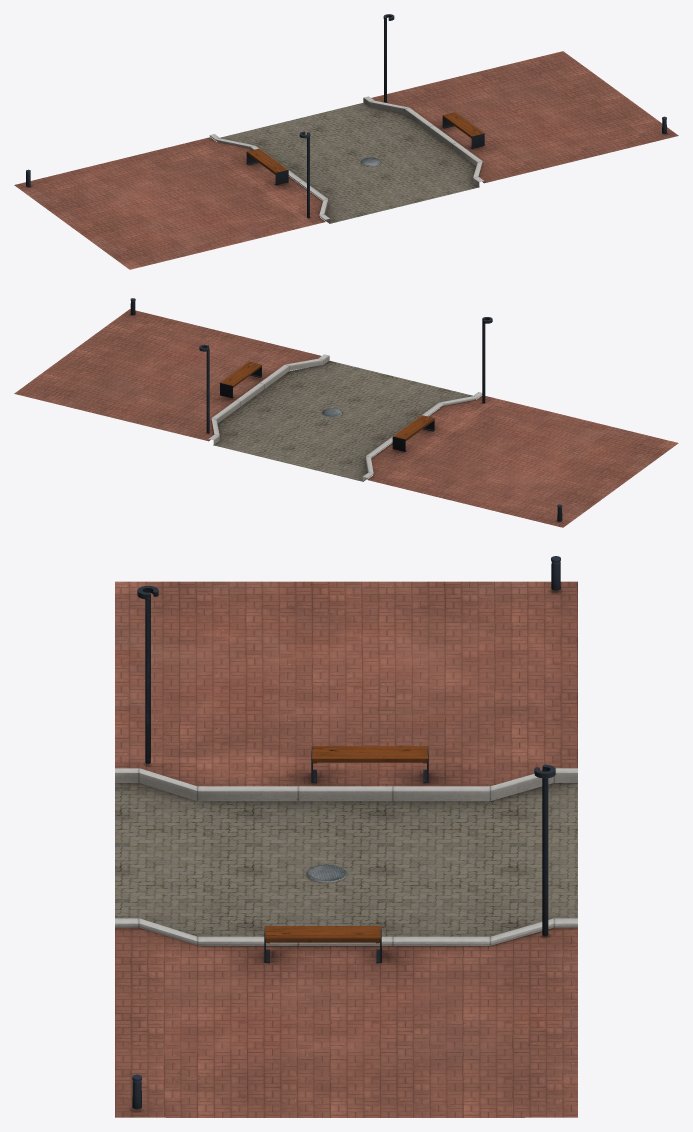
File: street_3.glb
3 views of the same model, one above another, from view 1: azimuth 30°, elevation 25°; view 2: azimuth 150°, elevation 25°; view 3: azimuth 270°, elevation 25° (orthographic). The views are drawn at different scales.
Visible parts, largest first — view 1: street_3; view 2: street_3; view 3: street_3.
Part boxes in pixels (x1=…): street_3: x1=14, y1=14, x2=678, y2=269; street_3: x1=14, y1=298, x2=678, y2=527; street_3: x1=115, y1=556, x2=577, y2=1117.
Size of the model in its own units: 21.91 by 3.36 by 8.
1 material, 1 textured.
